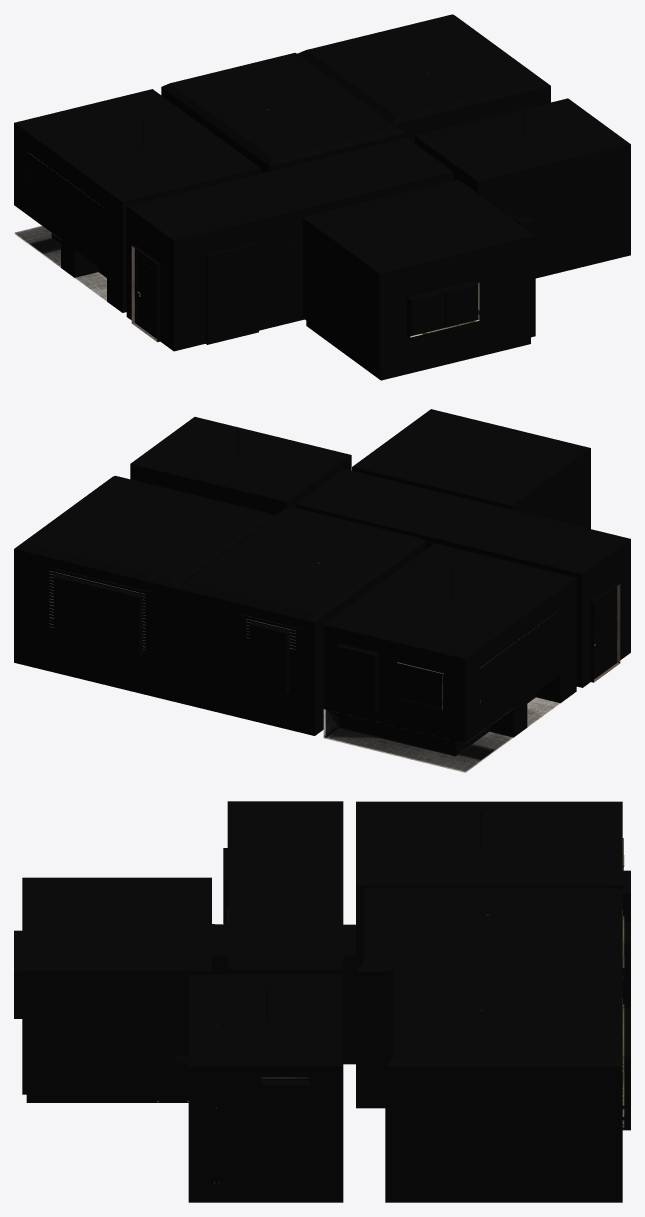
The model's file is house_interior.glb.
3 views of the same model, one above another, from view 1: azimuth 30°, elevation 25°; view 2: azimuth 150°, elevation 25°; view 3: azimuth 270°, elevation 25° (orthographic). The views are drawn at different scales.
Parts seen in each view (by area): view 1: Material2, Material3 (×2); view 2: Material2, Material3 (×2); view 3: Material2.
Boxes of the visible parts, x1,y1,x2,y2 form: Material2: [14, 14, 630, 380]; Material3 (×2): [14, 226, 106, 301]; Material2: [14, 409, 630, 756]; Material3 (×2): [324, 697, 559, 772]; Material2: [14, 801, 630, 1202].
Size of what is drawn, in the model's own units: 601 by 175 by 576.
Materials: 99 (99 with a texture image).
